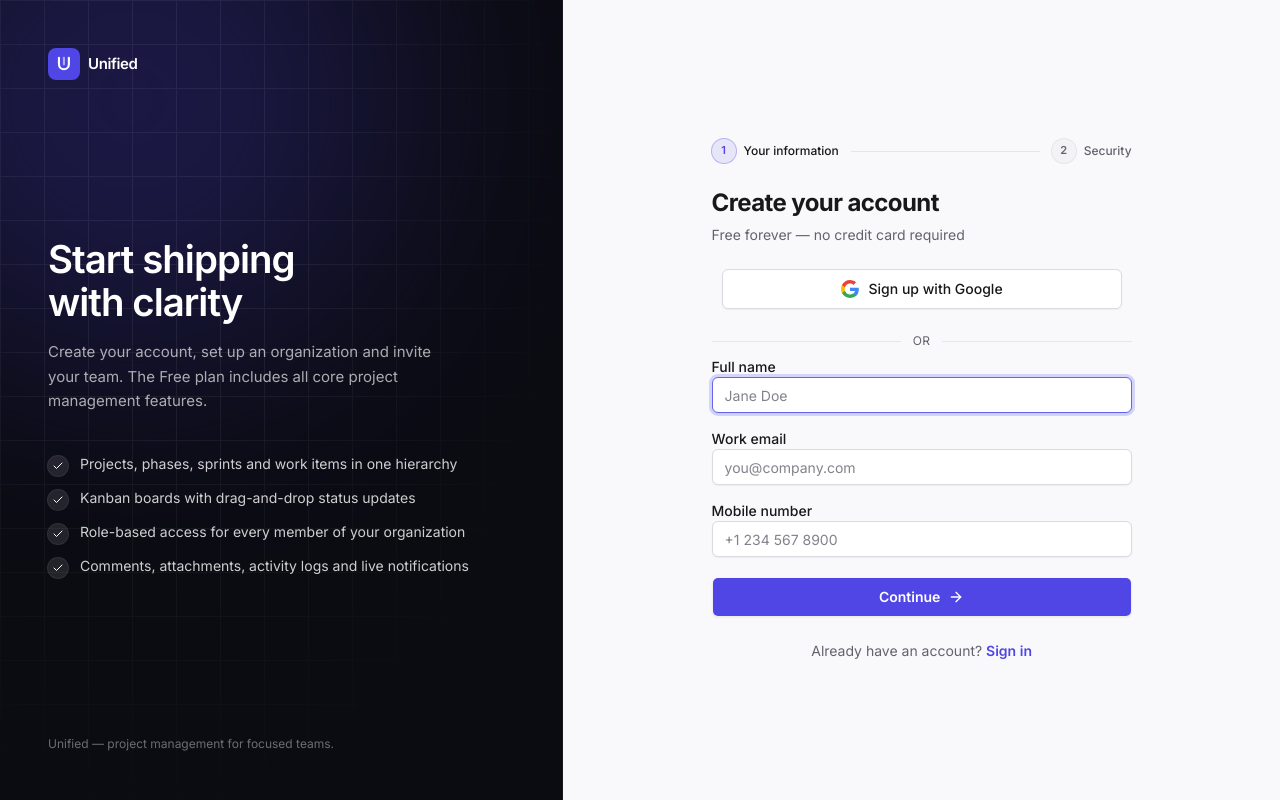
it: Register Page Component › should fail step 0 validation and not proceed if inputs are empty
Click the button "Continue": point(922, 597) x1=712 y1=577 x2=1132 y2=617
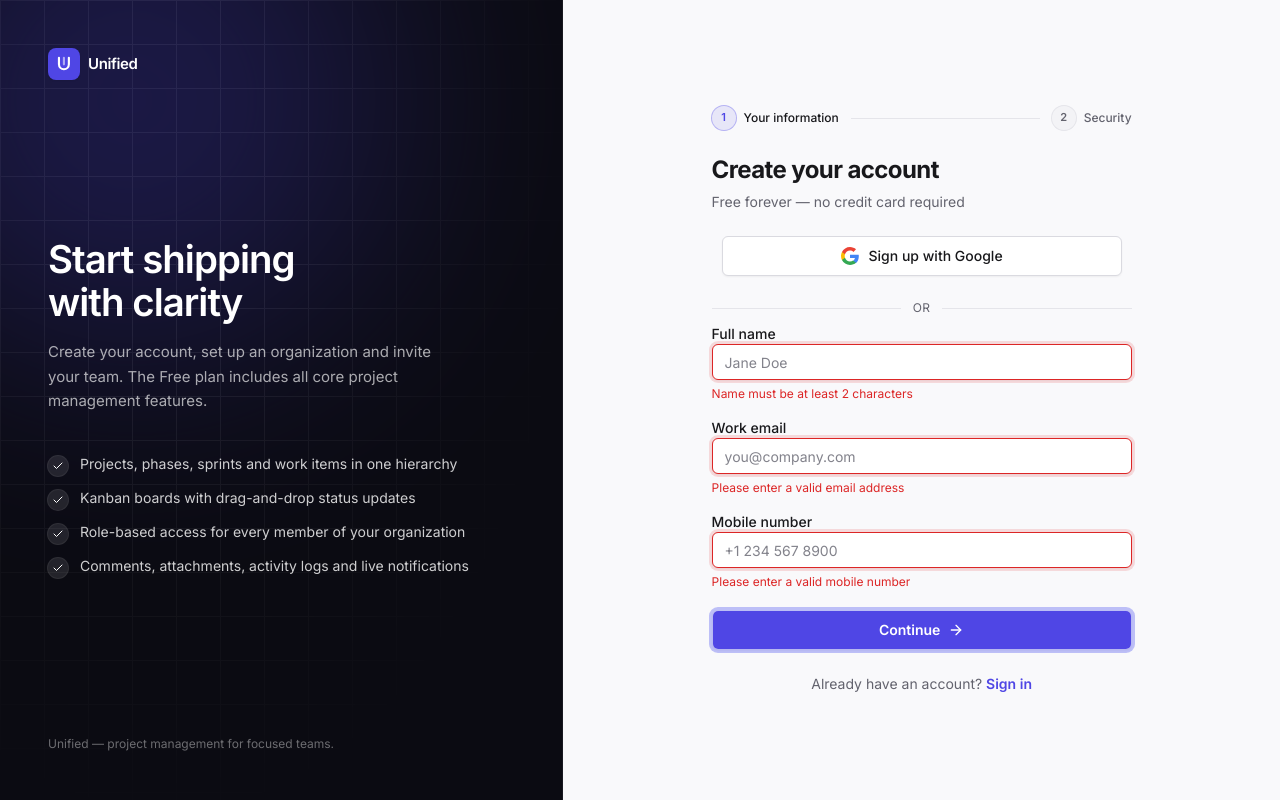
Check: the text "Name must be at least 2 characters" is shown, box x1=712 y1=386 x2=913 y2=401
Check: the text "Please enter a valid email address" is shown, box x1=712 y1=480 x2=904 y2=495
Check: the text "Please enter a valid mobile number" is shown, box x1=712 y1=574 x2=910 y2=589
